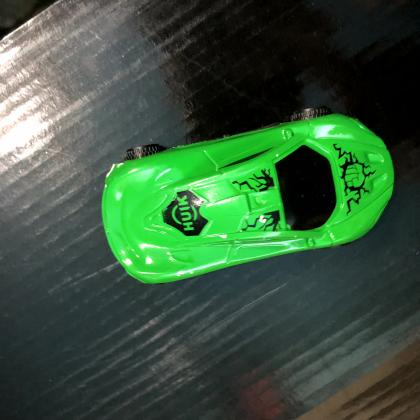Car: (98, 106, 399, 286)
